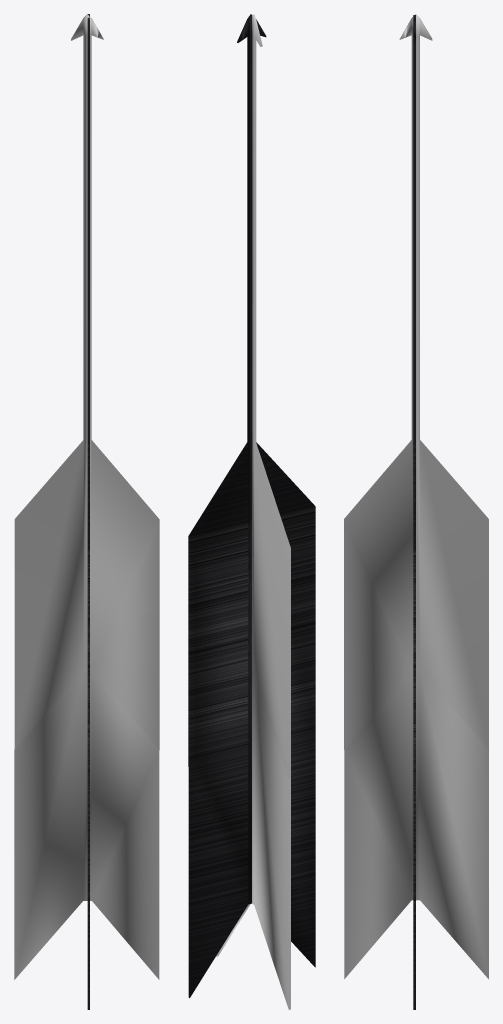
Rendered from arrow1.gltf.
The picture shows the model from 3 angles, left to right: view 1: azimuth 90°, elevation 25°; view 2: azimuth 210°, elevation 25°; view 3: azimuth 270°, elevation 25°; orthographic projection.
Visible parts, largest first — view 1: Plane, Plane.001; view 2: Plane.001, Plane; view 3: Plane, Plane.001.
Part boxes in pixels (box(x1,y1,x2,y2)): Plane: box(14, 14, 159, 979); Plane.001: box(87, 14, 89, 1009); Plane.001: box(188, 14, 315, 997); Plane: box(216, 14, 290, 1009); Plane: box(344, 14, 488, 979); Plane.001: box(413, 15, 415, 1009).
Bounding box in the file's own units: 0.5716 × 4.2 × 0.5716.
